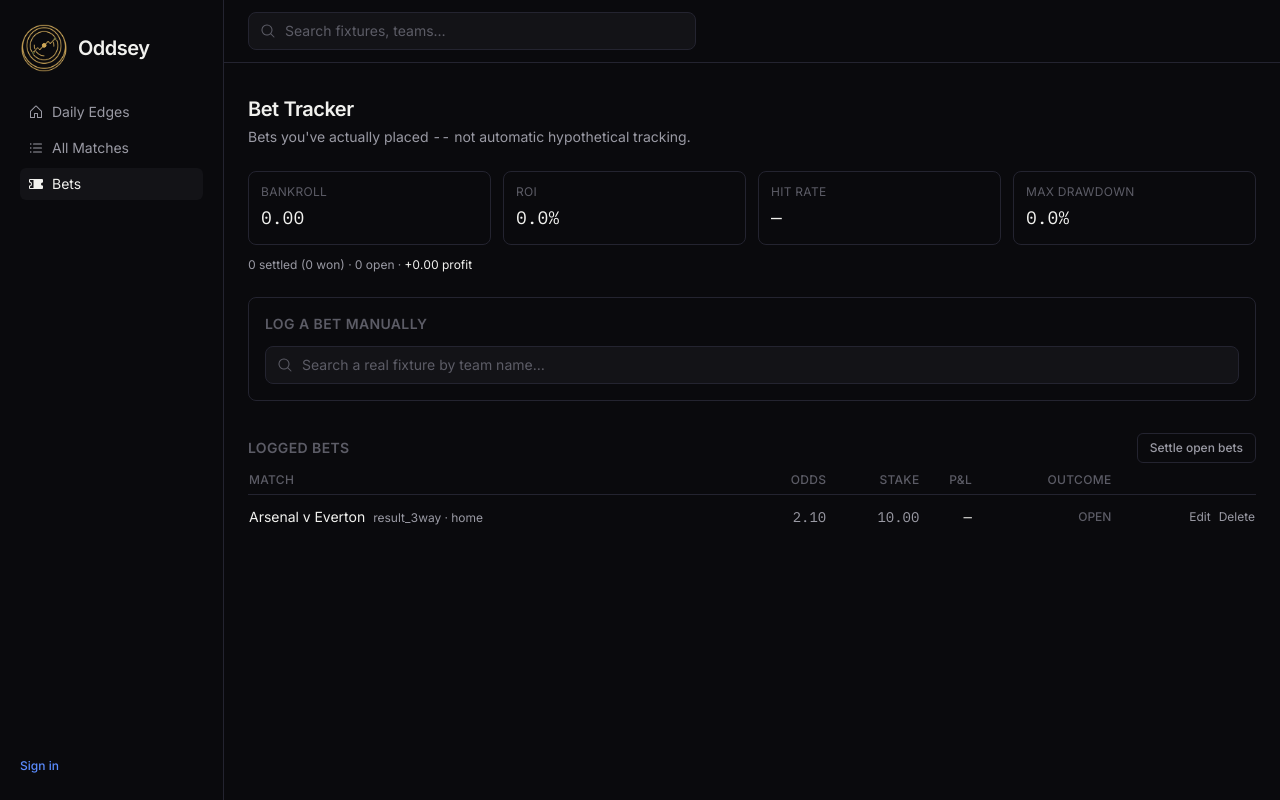
Test: BetTrackerPage lets a user delete their own logged bet (W215) › shows an inline error and leaves the bet in place when delete fails (not a 401)
Check: the text "Arsenal v Everton" is shown, box [249,508,483,525]
Step 1. Click the button "Delete" → click(1237, 517), box [1219,509,1255,525]
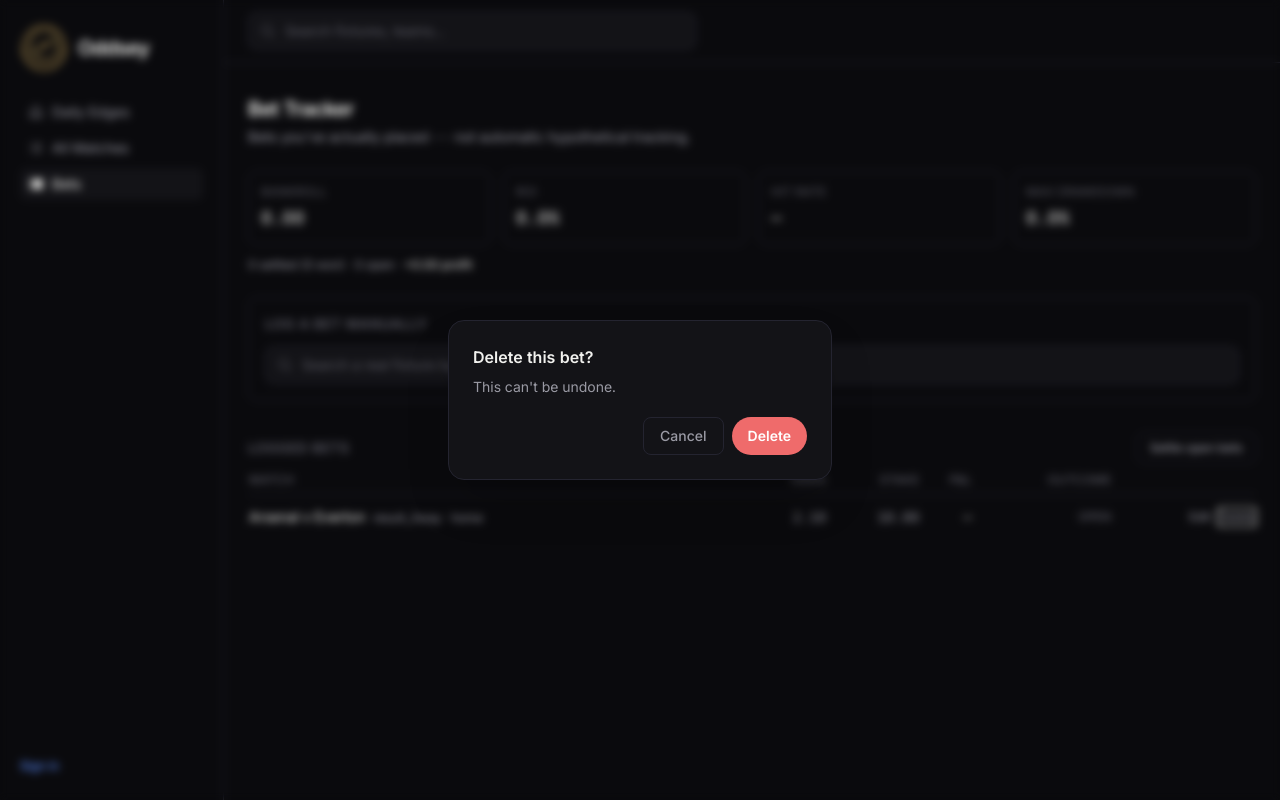
Step 2. Click the button with aria-label "confirm delete" → click(769, 436), box [732,417,807,455]
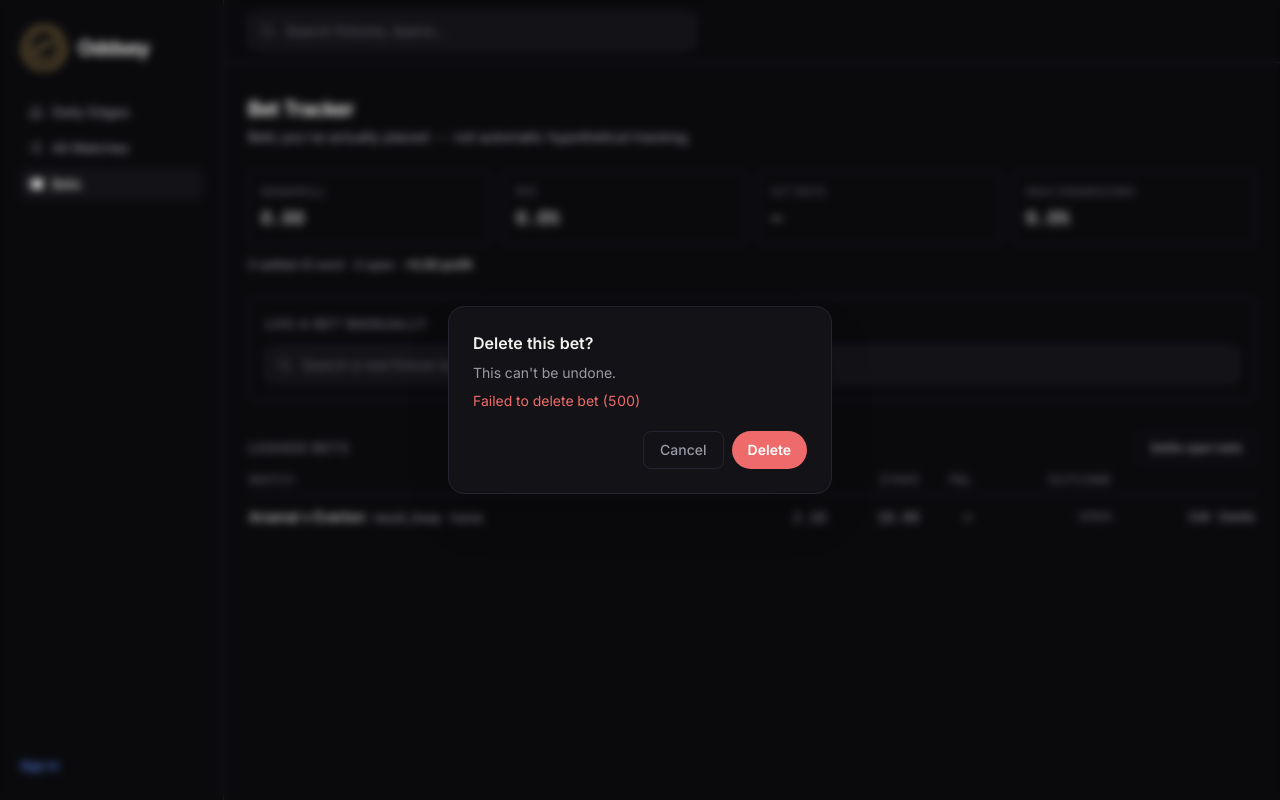
Check: the button with aria-label "confirm delete" is shown, box [732,431,807,469]
Check: the button with aria-label "cancel delete" is shown, box [643,431,724,469]
Check: the text "Failed to delete bet (500)" is shown, box [473,392,641,409]
